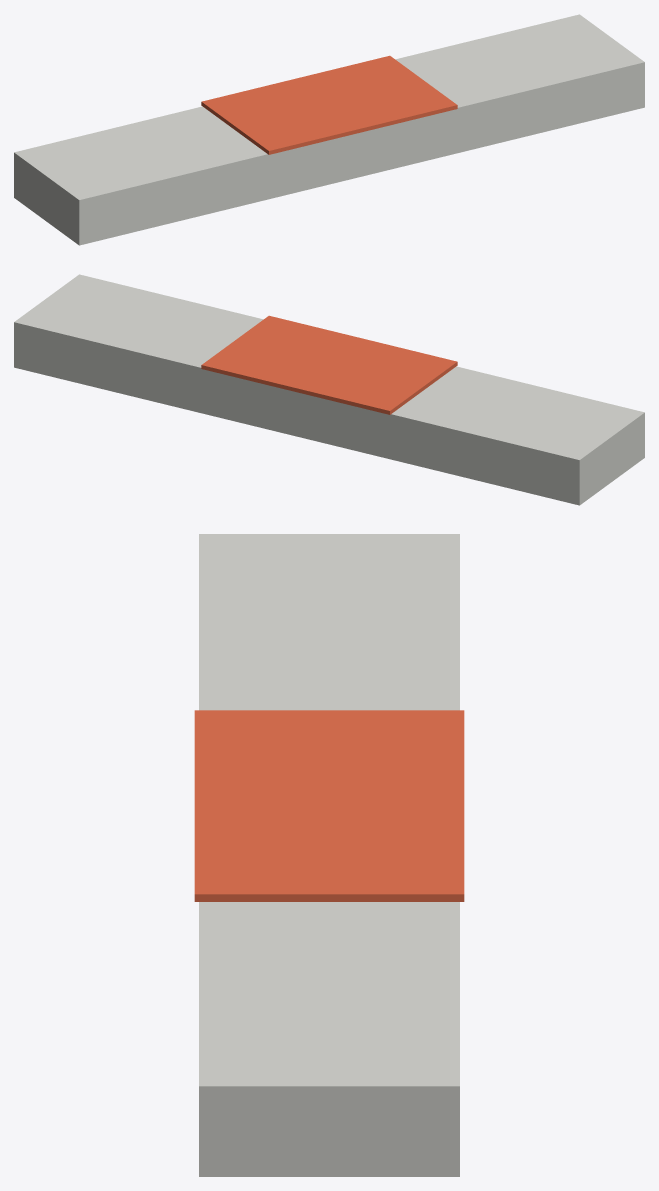
File: grand-prix-circuit-and-open-wheel-high-exit-kerb-8e0fe85e__15200.glb
3 views of the same model, one above another, from view 1: azimuth 30°, elevation 25°; view 2: azimuth 150°, elevation 25°; view 3: azimuth 270°, elevation 25° (orthographic). The views are drawn at different scales.
Visible parts, largest first — view 1: high-exit-kerb; view 2: high-exit-kerb; view 3: high-exit-kerb.
Part boxes in pixels (<box>): high-exit-kerb: <box>14,14,644,245</box>; high-exit-kerb: <box>14,274,644,505</box>; high-exit-kerb: <box>194,534,464,1176</box>.
Bounding box in the file's own units: 3 × 0.25 × 0.62.
